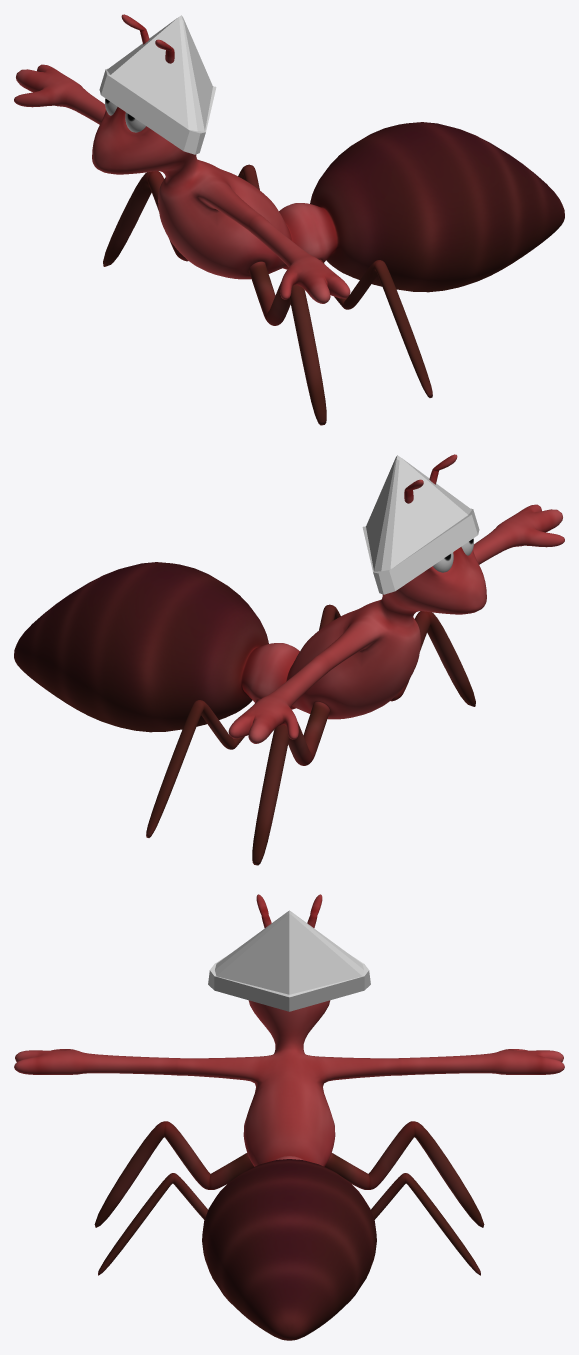
Rendered from paperhat.fbx.
3 views of the same model, one above another, from view 1: azimuth 30°, elevation 25°; view 2: azimuth 150°, elevation 25°; view 3: azimuth 270°, elevation 25° (orthographic). The views are drawn at different scales.
Visible parts, largest first — view 1: Cube.001, Cube; view 2: Cube.001, Cube; view 3: Cube.001, Cube.
Boxes of the visible parts, x1,y1,x2,y2 form: Cube.001: [14, 14, 564, 425]; Cube: [99, 15, 216, 154]; Cube.001: [14, 454, 564, 865]; Cube: [362, 455, 479, 594]; Cube.001: [14, 894, 564, 1340]; Cube: [208, 910, 370, 1011].
Size of the model in its own units: 571 by 396 by 653.
